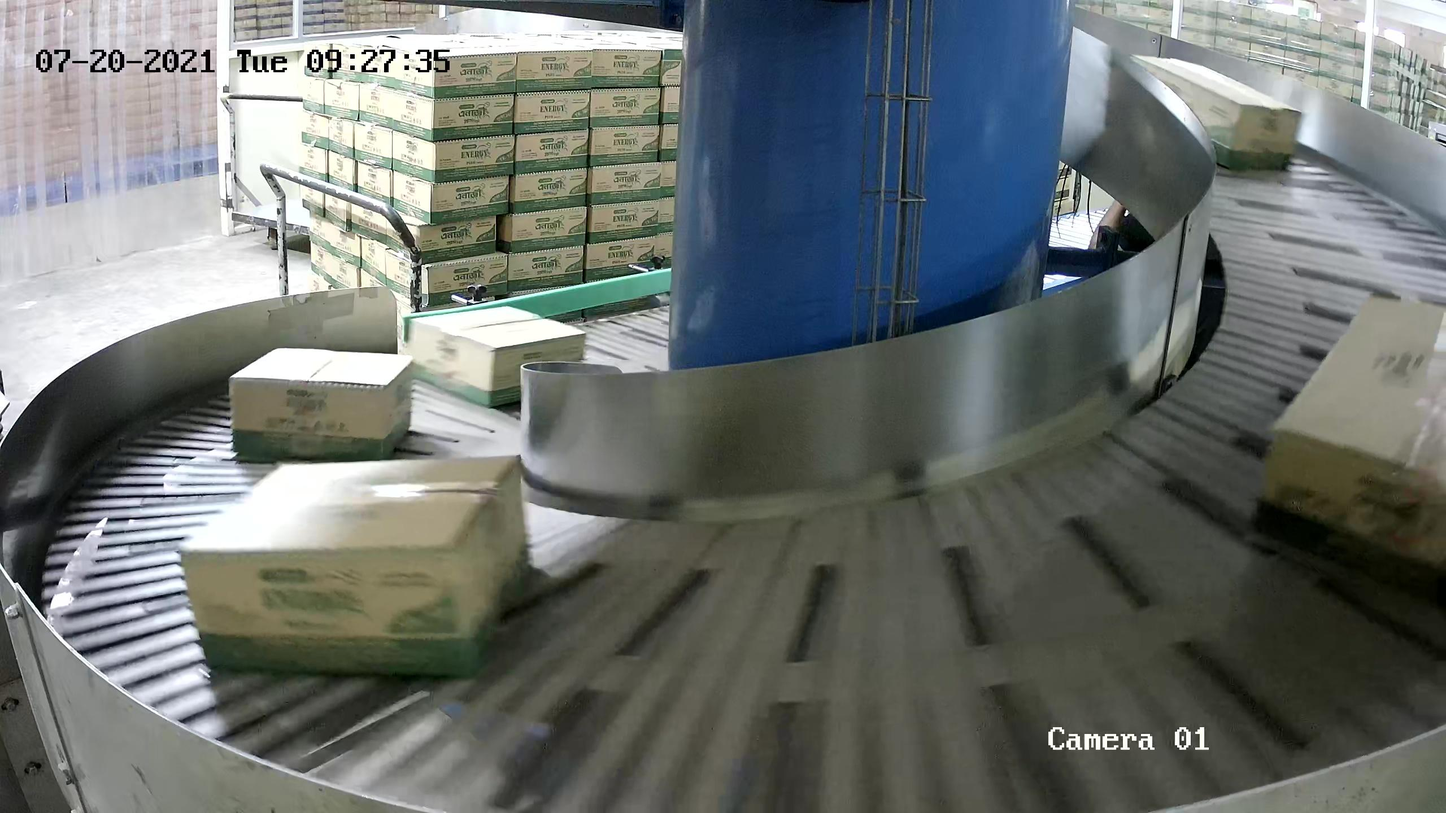Box: (177, 452, 534, 683), (1252, 292, 1446, 601), (227, 346, 414, 463), (1126, 51, 1303, 172), (404, 305, 588, 409)
